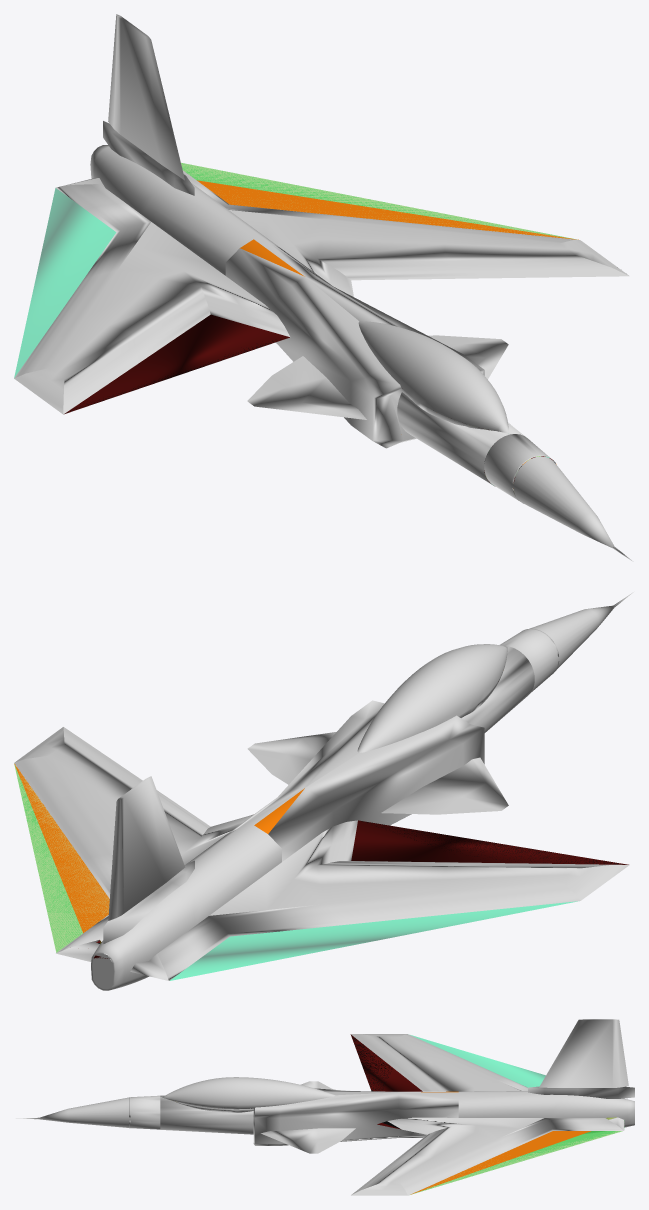
3 renders of one model, top to bottom at view 1: azimuth 30°, elevation 25°; view 2: azimuth 150°, elevation 25°; view 3: azimuth 270°, elevation 25°, orthographic. The views are drawn at different scales.
Bounding box in the file's own units: 0.5843 × 0.1927 × 0.95.
